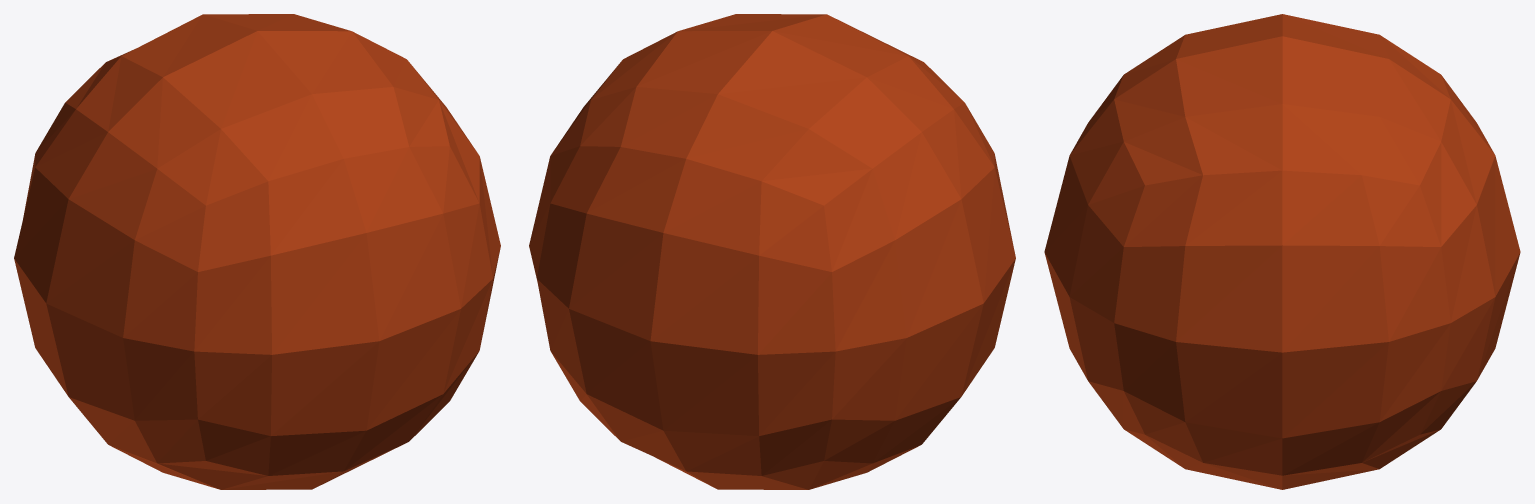
File: Basket_Ball.fbx
The picture shows the model from 3 angles, left to right: view 1: azimuth 30°, elevation 25°; view 2: azimuth 150°, elevation 25°; view 3: azimuth 270°, elevation 25°; orthographic projection. The views are drawn at different scales.
Parts seen in each view (by area): view 1: Basket_Ball; view 2: Basket_Ball; view 3: Basket_Ball.
Boxes of the visible parts, left/top/right/bottom form: Basket_Ball: left=14, top=14, right=500, bottom=489; Basket_Ball: left=529, top=14, right=1015, bottom=489; Basket_Ball: left=1044, top=14, right=1520, bottom=489.
Size of the model in its own units: 22 by 22 by 22.
Materials: 1 (1 with a texture image).
